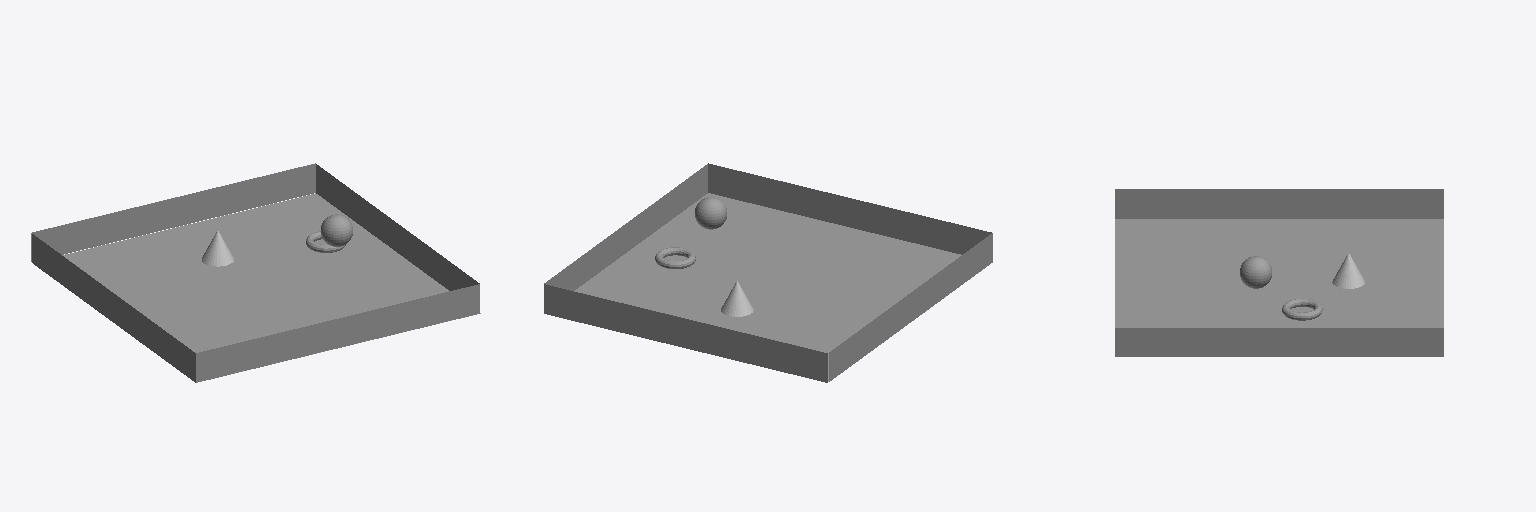
File: Level_1_test.obj
3 views of the same model, side by side, from view 1: azimuth 30°, elevation 25°; view 2: azimuth 150°, elevation 25°; view 3: azimuth 270°, elevation 25° (orthographic).
Visible parts, largest first — view 1: Mesh_Mesh.002_Grid_, Mesh.007_Mesh.008_Plane.005_, Mesh.004_Mesh.006_Plane.002_, Mesh.005_Mesh.005_Plane.004_, Mesh.003_Mesh.007_Plane.003_, Mesh.008_Mesh.004_Sphere_Sphere.001_, Mesh.002_Mesh.003_Cone_; view 2: Mesh_Mesh.002_Grid_, Mesh.004_Mesh.006_Plane.002_, Mesh.007_Mesh.008_Plane.005_, Mesh.005_Mesh.005_Plane.004_, Mesh.003_Mesh.007_Plane.003_, Mesh.008_Mesh.004_Sphere_Sphere.001_, Mesh.002_Mesh.003_Cone_, Mesh.006_Mesh_Torus_; view 3: Mesh_Mesh.002_Grid_, Mesh.005_Mesh.005_Plane.004_, Mesh.003_Mesh.007_Plane.003_, Mesh.008_Mesh.004_Sphere_Sphere.001_, Mesh.002_Mesh.003_Cone_, Mesh.006_Mesh_Torus_.
Boxes of the visible parts, x1=… form: Mesh_Mesh.002_Grid_: x1=62, y1=193, x2=480, y2=382; Mesh.007_Mesh.008_Plane.005_: x1=196, y1=284, x2=479, y2=382; Mesh.004_Mesh.006_Plane.002_: x1=31, y1=163, x2=315, y2=261; Mesh.005_Mesh.005_Plane.004_: x1=32, y1=234, x2=195, y2=382; Mesh.003_Mesh.007_Plane.003_: x1=316, y1=164, x2=479, y2=290; Mesh.008_Mesh.004_Sphere_Sphere.001_: x1=321, y1=214, x2=352, y2=246; Mesh.002_Mesh.003_Cone_: x1=202, y1=231, x2=233, y2=266; Mesh_Mesh.002_Grid_: x1=574, y1=193, x2=961, y2=381; Mesh.004_Mesh.006_Plane.002_: x1=544, y1=284, x2=827, y2=382; Mesh.007_Mesh.008_Plane.005_: x1=708, y1=163, x2=991, y2=254; Mesh.005_Mesh.005_Plane.004_: x1=829, y1=233, x2=992, y2=381; Mesh.003_Mesh.007_Plane.003_: x1=544, y1=164, x2=707, y2=290; Mesh.008_Mesh.004_Sphere_Sphere.001_: x1=695, y1=197, x2=726, y2=229; Mesh.002_Mesh.003_Cone_: x1=721, y1=281, x2=753, y2=316; Mesh.006_Mesh_Torus_: x1=655, y1=247, x2=695, y2=268; Mesh_Mesh.002_Grid_: x1=1115, y1=219, x2=1443, y2=327; Mesh.005_Mesh.005_Plane.004_: x1=1115, y1=189, x2=1443, y2=218; Mesh.003_Mesh.007_Plane.003_: x1=1115, y1=328, x2=1443, y2=356; Mesh.008_Mesh.004_Sphere_Sphere.001_: x1=1240, y1=256, x2=1271, y2=288; Mesh.002_Mesh.003_Cone_: x1=1332, y1=253, x2=1364, y2=288; Mesh.006_Mesh_Torus_: x1=1282, y1=299, x2=1322, y2=320.
Size of the model in its own units: 20.03 by 4.31 by 20.08.